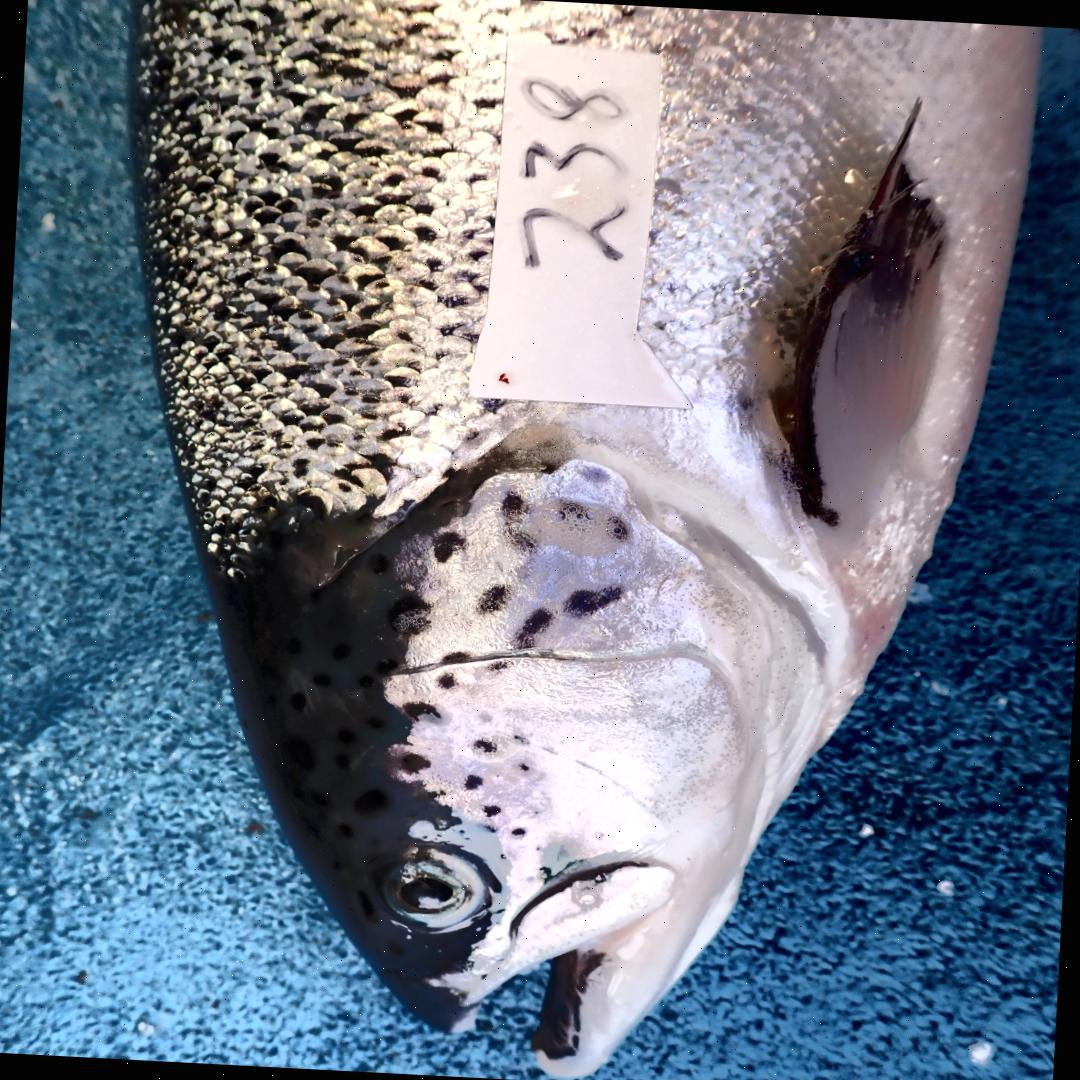spot: (564, 585, 622, 617), (512, 606, 553, 648), (434, 531, 466, 561), (500, 527, 536, 553), (477, 583, 506, 612), (502, 490, 527, 520), (401, 700, 440, 719), (398, 752, 429, 772), (557, 498, 585, 518), (579, 467, 606, 485), (608, 515, 628, 539), (438, 649, 471, 663), (436, 672, 456, 689), (465, 773, 482, 790), (474, 738, 498, 750), (486, 659, 510, 671), (483, 803, 500, 816), (515, 761, 530, 772), (510, 735, 527, 743), (510, 826, 525, 835)
